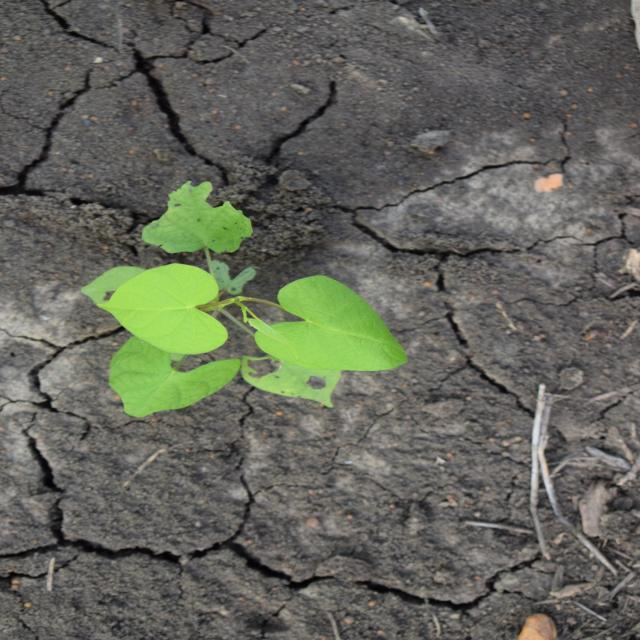MorningGlory: (79, 180, 411, 418)
